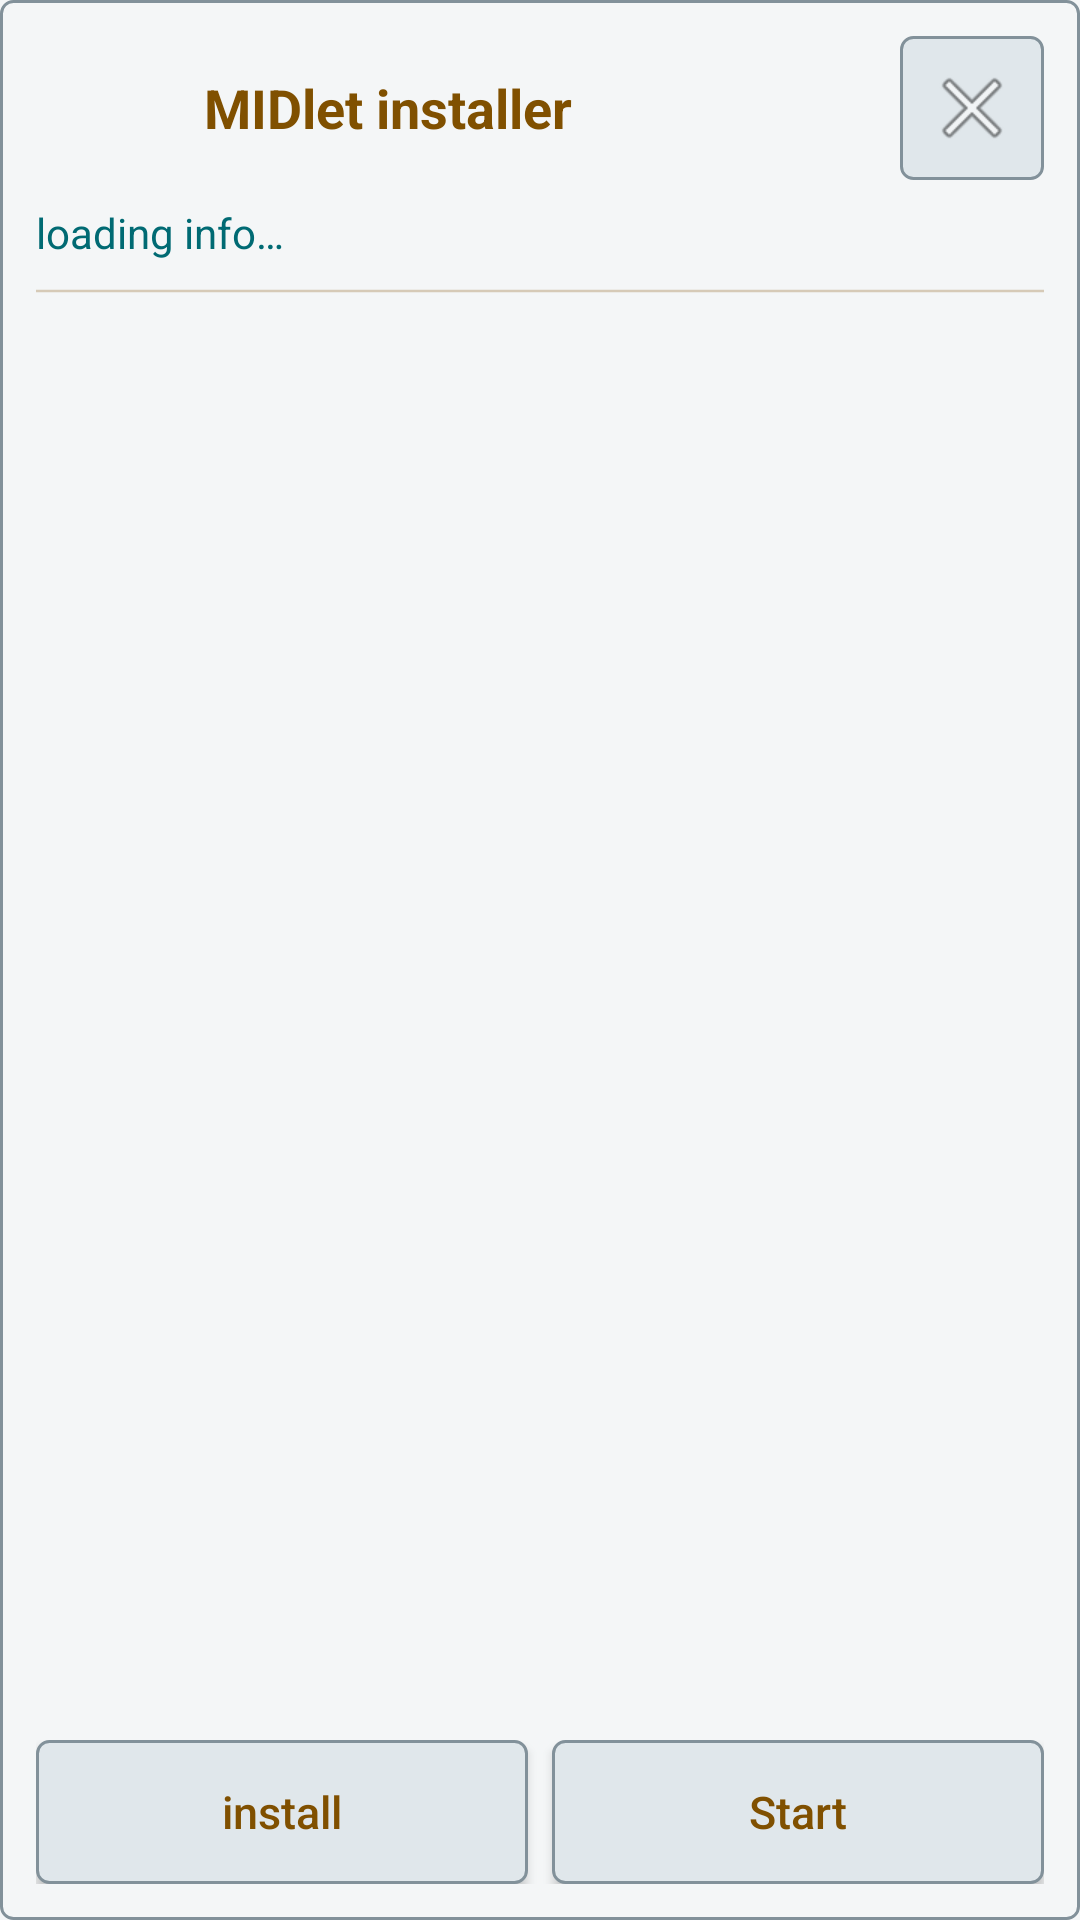

Named icons in this screenshot (1080px×1920px) and their bounding boxes, [x1=x1, y1=y1, x2=x2, y2=y2]:
Close: [x1=900, y1=36, x2=1044, y2=180]
